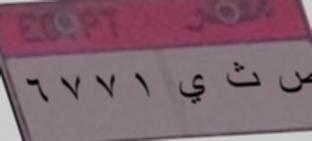1: (132, 68, 154, 102)
6: (22, 70, 50, 110)
7: (57, 69, 85, 105), (95, 70, 119, 104)
saad: (273, 63, 312, 100)
thaa: (225, 60, 264, 93)
yaa: (175, 70, 208, 110)
